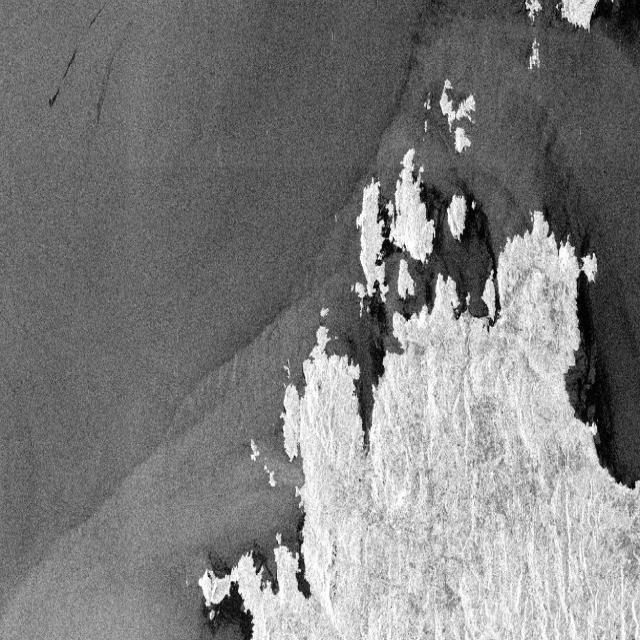look-alike: (571, 274, 623, 464), (375, 8, 448, 138), (341, 294, 391, 425), (597, 3, 639, 70), (198, 590, 249, 639), (462, 184, 493, 255)
oil-spill: (44, 6, 96, 112), (93, 33, 128, 128)
